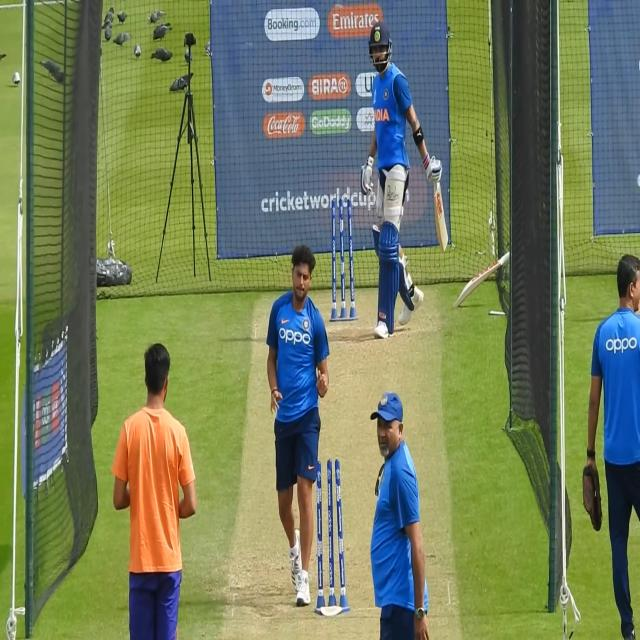stump: (316, 457, 348, 616), (329, 196, 356, 324)
